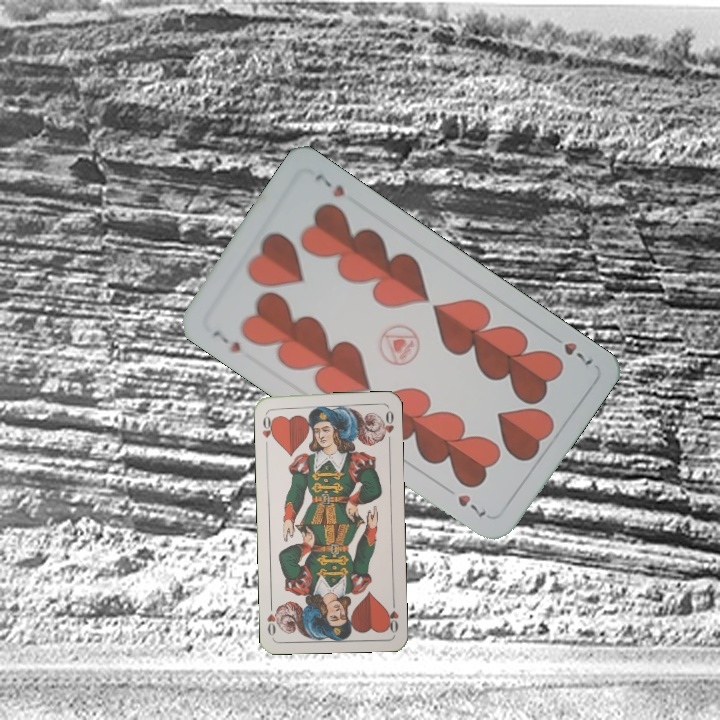H7: (545, 329, 596, 370), (208, 325, 244, 356)
HO: (258, 409, 277, 450), (383, 594, 401, 635)
